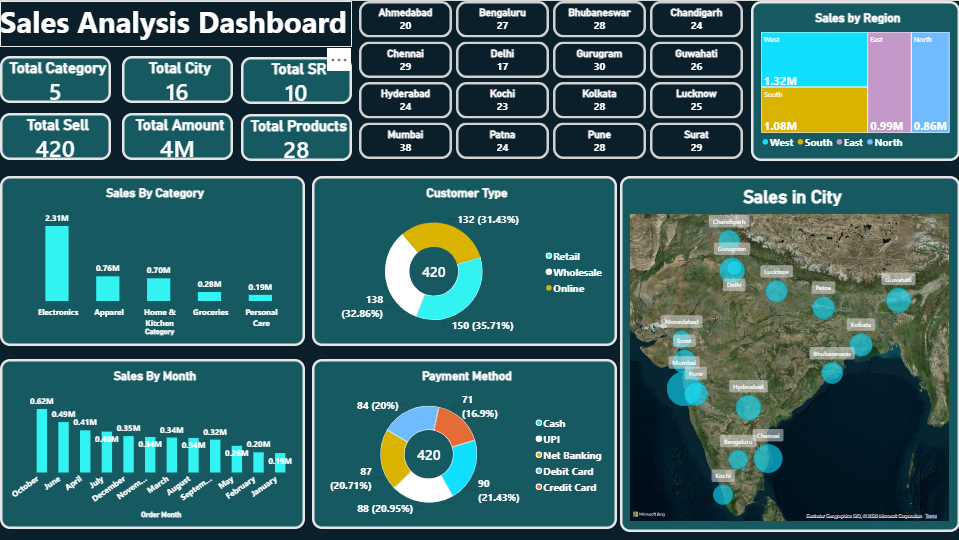

The page's visual inventory and layout, read from the dashboard file:
{"tool":"powerbi","page":{"name":"Page 1","canvas":[1920,1080],"ordinal":0},"visuals":[{"type":"cardVisual","title":"Total Sell","fields":{"Data":["CountNonNull(Procurement data.Order Id)"]},"box":[0,224,221.7,94.5],"z":0},{"type":"cardVisual","title":"Total SR","fields":{"Data":["Count(Procurement data.Sales Rep)"]},"box":[482,112,221.7,94.5],"z":1000},{"type":"cardVisual","title":"Total Category","fields":{"Data":["Count(Procurement data.Category)"]},"box":[0,110,221.7,94.5],"z":2000},{"type":"cardVisual","title":"Total City","fields":{"Data":["Count(Procurement data.City)"]},"box":[244,110,221.7,94.5],"z":3000},{"type":"cardVisual","title":"Total Amount","fields":{"Data":["Sum(Procurement data.Net Sales (Rs))"]},"box":[244,224,222,94],"z":4000},{"type":"columnChart","title":"Sales By Category","fields":{"Category":["Procurement data.Category"],"Y":["Sum(Procurement data.Net Sales (Rs))"]},"box":[0,350,610,340],"z":5000},{"type":"columnChart","title":"Sales By Month","fields":{"Category":["Procurement data.Order Month"],"Y":["Sum(Procurement data.Net Sales (Rs))"]},"box":[0,716,610,340],"z":6000},{"type":"map","title":"Sales in City","fields":{"Category":["Procurement data.City"],"Size":["Sum(Procurement data.Net Sales (Rs))"]},"box":[1240,350,680,712],"z":7000},{"type":"donutChart","title":"Customer Type","fields":{"Category":["Procurement data.Customer Type"],"Y":["CountNonNull(Procurement data.Order Id)"]},"box":[624,350,610,340],"z":10000},{"type":"donutChart","title":"Payment Method","fields":{"Category":["Procurement data.Payment Mode"],"Y":["CountNonNull(Procurement data.Order Id)"]},"box":[624,716,610,340],"z":10001},{"type":"treemap","title":"Sales by Region","fields":{"Group":["Procurement data.Region"],"Values":["Sum(Procurement data.Net Sales (Rs))"]},"box":[1502.5,0,417.5,320],"z":10002},{"type":"advancedSlicerVisual","fields":{"Label":["CountNonNull(Procurement data.Order Id)"],"Values":["Procurement data.City"]},"box":[718,0,770,318],"z":10003},{"type":"cardVisual","title":"Total Products","fields":{"Data":["Count(Procurement data.Product)"]},"box":[482,226,221.7,94.5],"z":10004},{"type":"textbox","box":[0,0,704,92],"z":10005}]}

Visuals, with their boxes in screenshot pixels (x1, y1, x2, y2), scaled from the page's 1920x1080 canvas onto the 959x540 screenshot:
"Total Sell" cardVisual: <bbox>0, 112, 111, 159</bbox>
"Total SR" cardVisual: <bbox>241, 56, 351, 103</bbox>
"Total Category" cardVisual: <bbox>0, 55, 111, 102</bbox>
"Total City" cardVisual: <bbox>122, 55, 233, 102</bbox>
"Total Amount" cardVisual: <bbox>122, 112, 233, 159</bbox>
"Sales By Category" columnChart: <bbox>0, 175, 305, 345</bbox>
"Sales By Month" columnChart: <bbox>0, 358, 305, 528</bbox>
"Sales in City" map: <bbox>619, 175, 958, 531</bbox>
"Customer Type" donutChart: <bbox>312, 175, 616, 345</bbox>
"Payment Method" donutChart: <bbox>312, 358, 616, 528</bbox>
"Sales by Region" treemap: <bbox>750, 0, 958, 160</bbox>
advancedSlicerVisual - CountNonNull(Procurement data.Order Id) x Procurement data.City: <bbox>359, 0, 743, 159</bbox>
"Total Products" cardVisual: <bbox>241, 113, 351, 160</bbox>
textbox: <bbox>0, 0, 352, 46</bbox>
